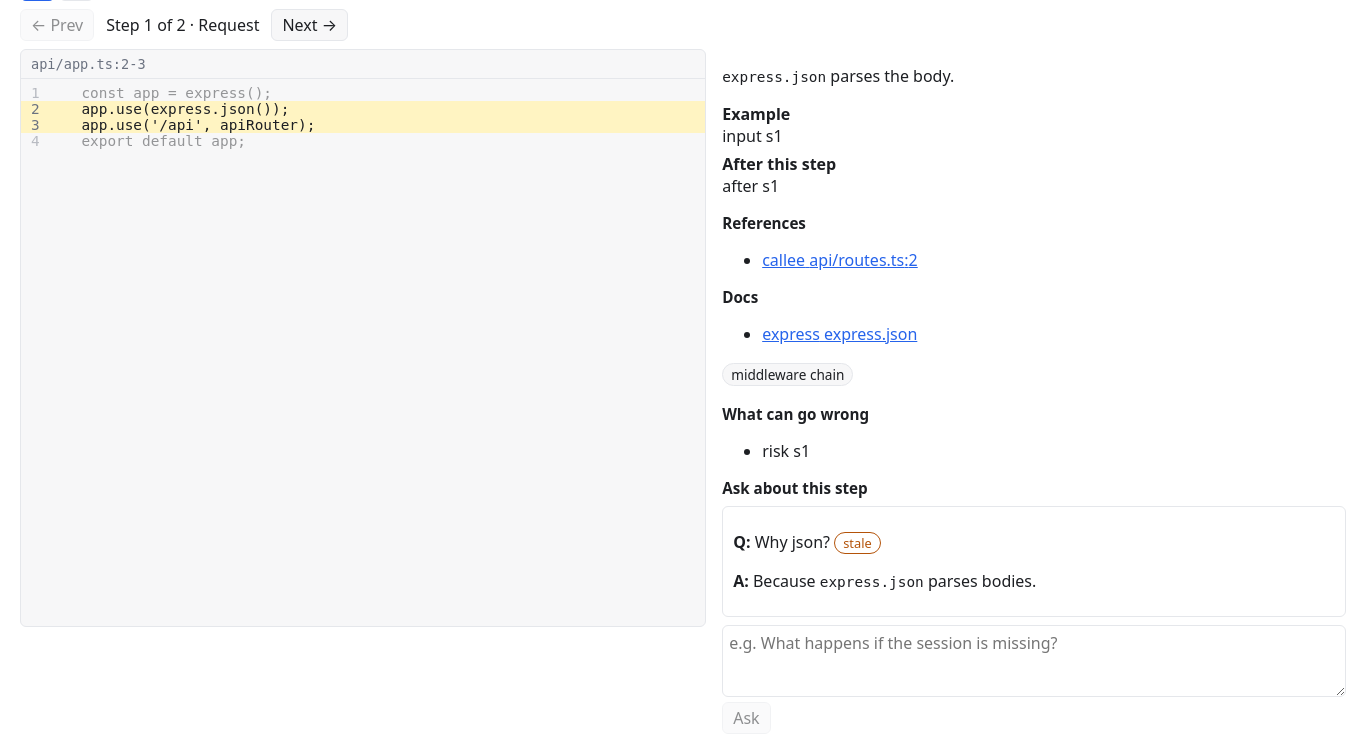
questions › shows why a question failed
This screenshot has width=1366, height=750.
(page scrolled)
In the text box named "Question": coordinates (1034, 661) [722,625,1346,697], type "Why?"
(page scrolled)
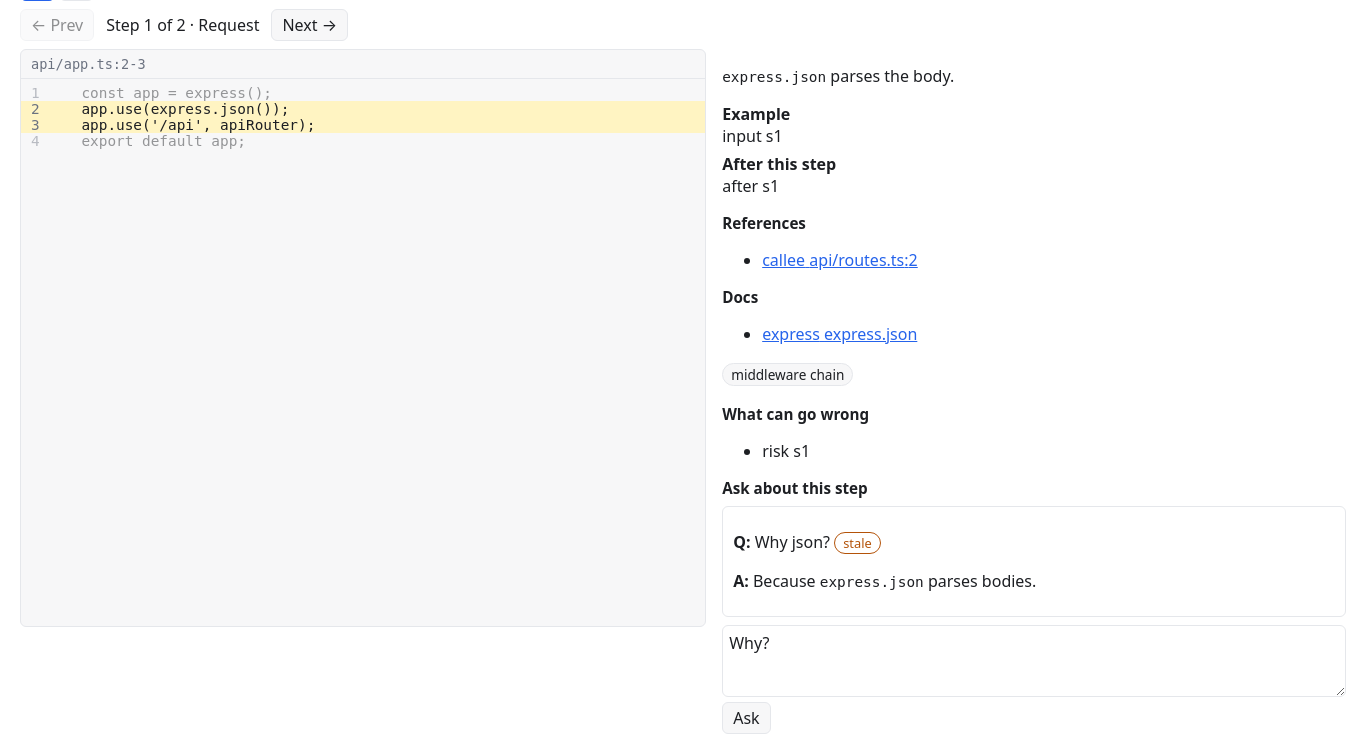
Click the button "Ask": coordinates (746, 718) [722,702,771,734]
(page scrolled)
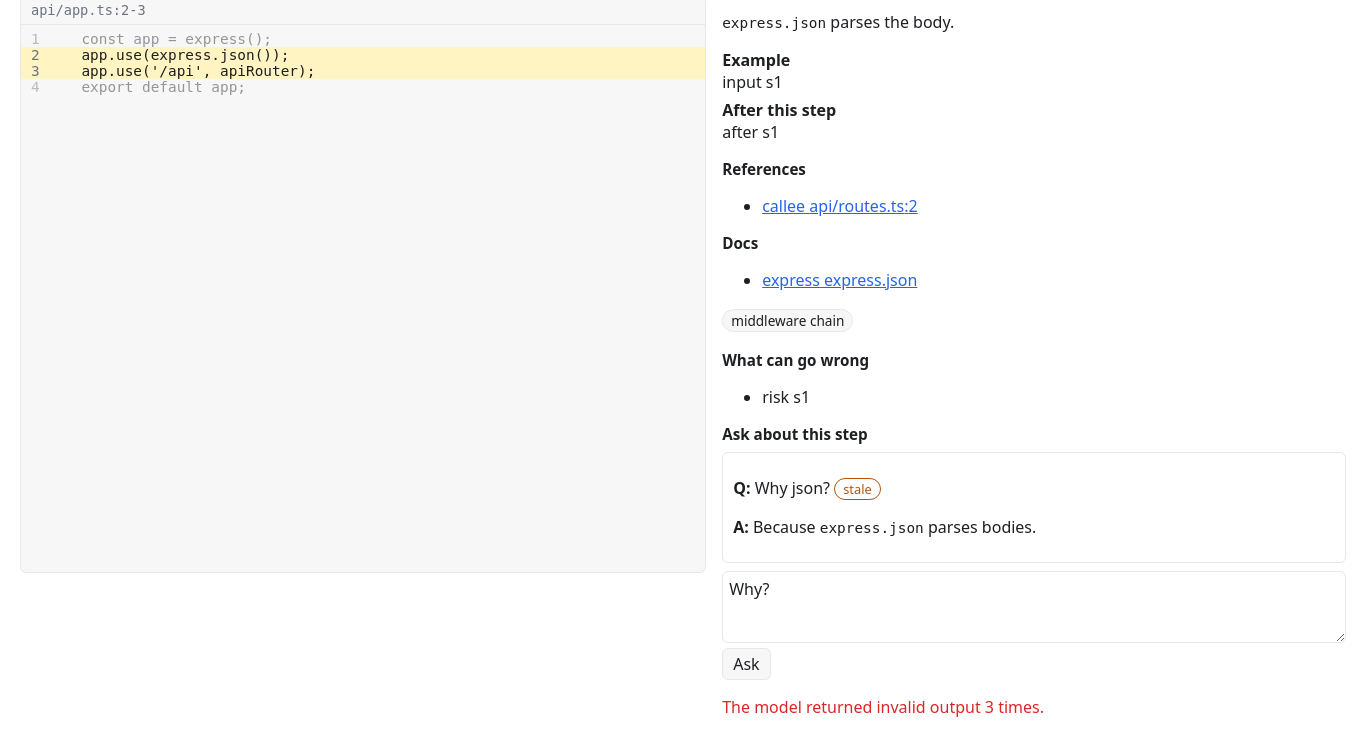
Expected: the message reads "The model returned invalid output 3 times.", [722,696,1044,718]
